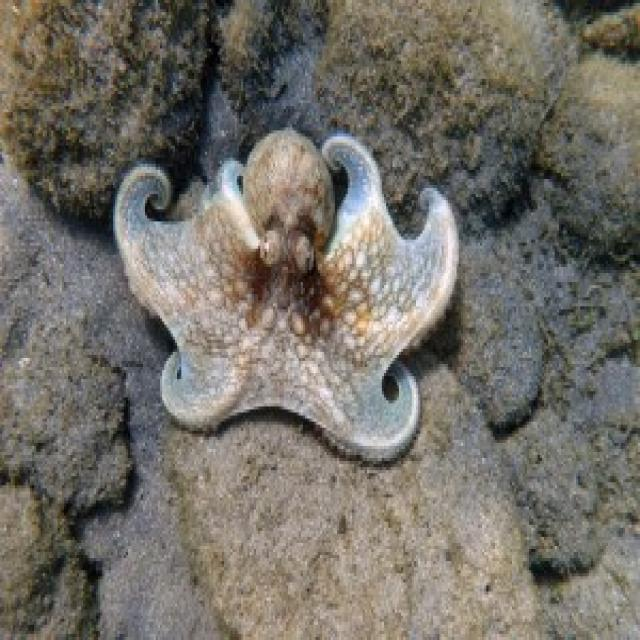Octo: (102, 134, 466, 473)
